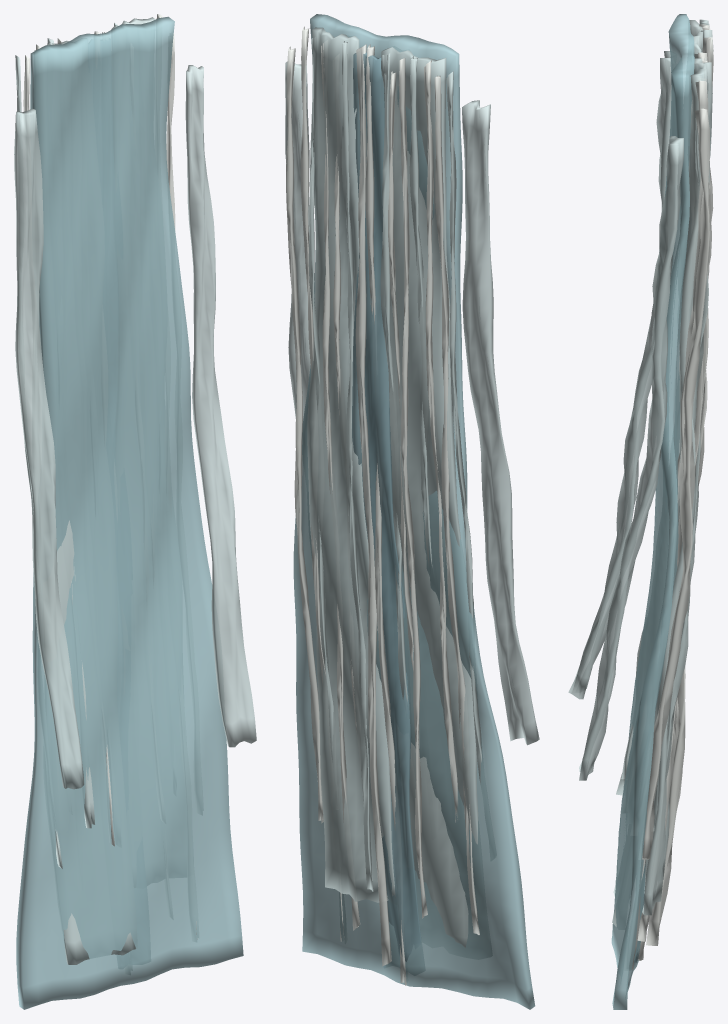
Rendered from waterfall.glb.
The picture shows the model from 3 angles, left to right: view 1: azimuth 30°, elevation 25°; view 2: azimuth 150°, elevation 25°; view 3: azimuth 270°, elevation 25°; orthographic projection. The views are drawn at different scales.
Visible parts, largest first — view 1: waterfall__water, waterfall__water_silver, waterfall__water_foam; view 2: waterfall__water_silver, waterfall__water, waterfall__water_foam, waterfall__water_shadow; view 3: waterfall__water_silver, waterfall__water, waterfall__water_foam.
Boxes of the visible parts, x1=… form: waterfall__water: x1=16, y1=16, x2=243, y2=1009; waterfall__water_silver: x1=14, y1=17, x2=256, y2=964; waterfall__water_foam: x1=23, y1=14, x2=197, y2=939; waterfall__water_silver: x1=285, y1=27, x2=539, y2=948; waterfall__water: x1=293, y1=14, x2=535, y2=1009; waterfall__water_foam: x1=286, y1=26, x2=479, y2=985; waterfall__water_shadow: x1=352, y1=52, x2=421, y2=968; waterfall__water_silver: x1=568, y1=19, x2=713, y2=926; waterfall__water: x1=611, y1=14, x2=694, y2=1009; waterfall__water_foam: x1=631, y1=24, x2=713, y2=969.
Bounding box in the file's own units: 88.88 × 361 × 52.01.
